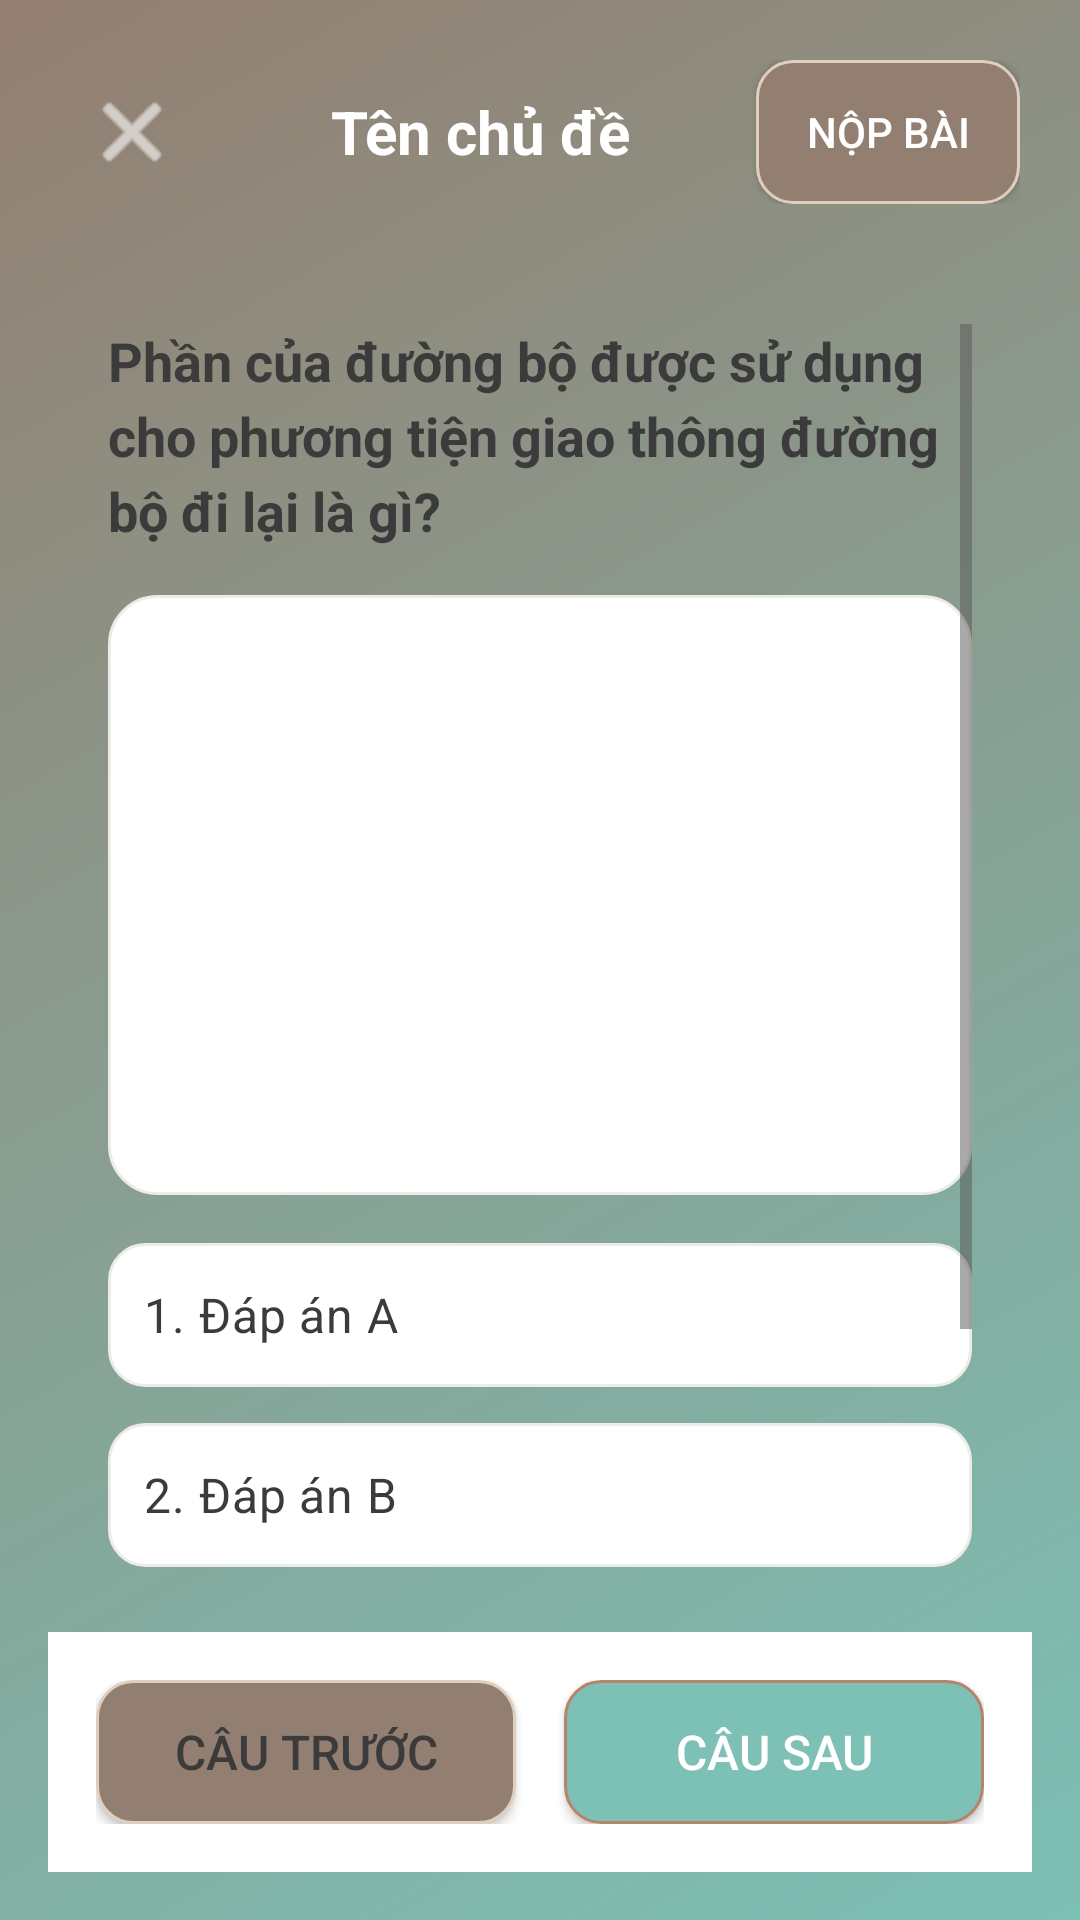

Icons on this 1080*1920 Android screen, each with the point to tap as [x,y]:
close clear cancel: [132,132]
